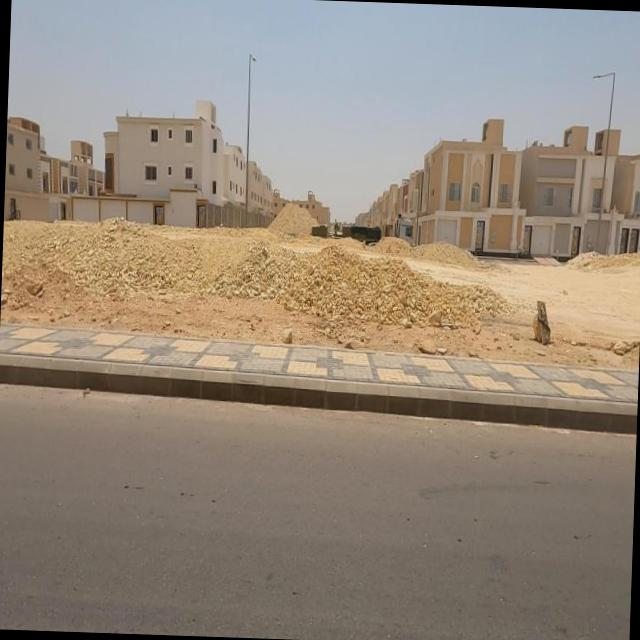debris: (494, 271, 580, 379)
